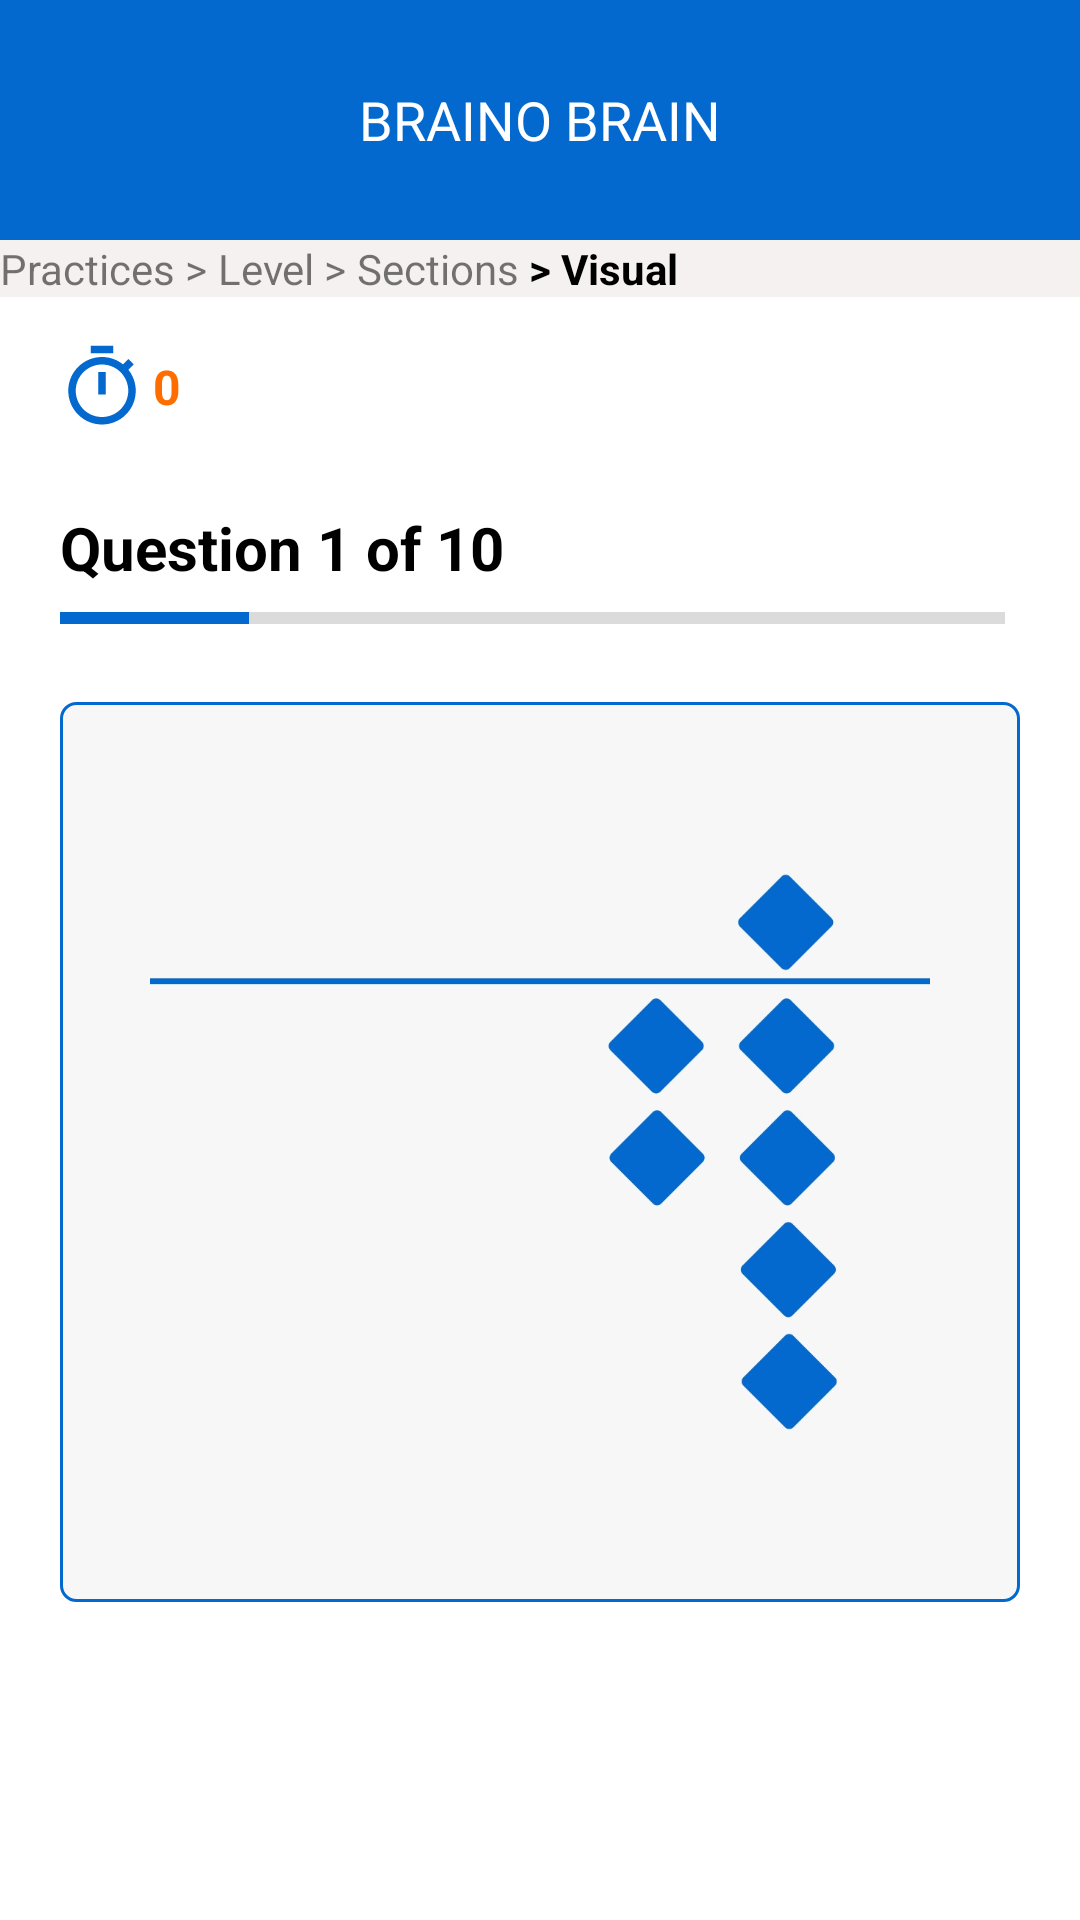

Icons on this 1080×1920 Android screen, each with its box as (x1, y1, x2, y2):
timer: (68, 345, 136, 425)
